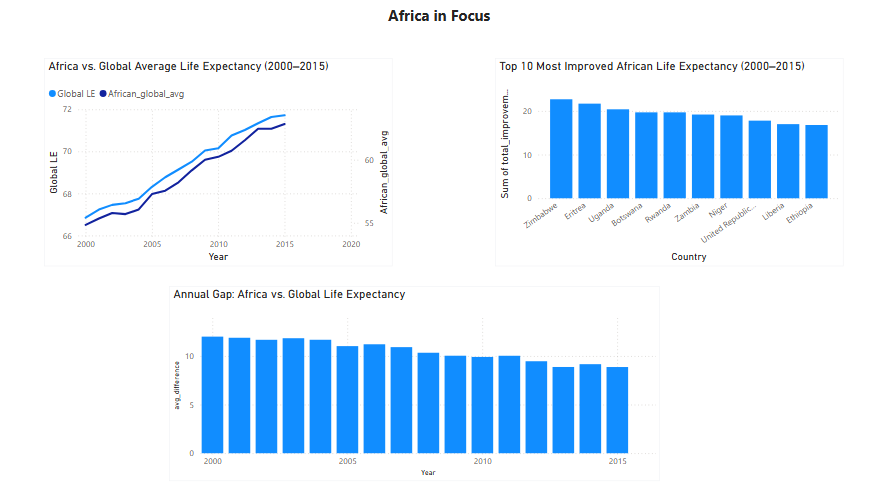

The page's visual inventory and layout, read from the dashboard file:
{"tool":"powerbi","page":{"name":"Page 4","canvas":[1280,720],"ordinal":3},"visuals":[{"type":"lineChart","title":"Africa vs. Global Average Life Expectancy (2000–2015)","fields":{"Y":["_Measure Bank.Global_lifeExpectancy_Avg"],"Category":["v_Dim_Date.CalendarYear"],"Y2":["_Measure Bank.African_global_avg"]},"box":[70.6,92.2,502,300],"z":0},{"type":"clusteredColumnChart","title":"Annual Gap: Africa vs. Global Life Expectancy","fields":{"Y":["_Measure Bank.avg_difference"],"Category":["v_Dim_Date.CalendarYear"]},"box":[250.6,420.5,707,280.8],"z":1000},{"type":"clusteredColumnChart","title":"Top 10 Most Improved African Life Expectancy (2000–2015)","fields":{"Category":["v_Dim_improved_Countries.Country"],"Y":["Sum(v_Dim_improved_Countries.total_improvement_years)"]},"box":[720,92.2,502,300],"z":2000},{"type":"textbox","box":[548.6,11.5,181.4,38.9],"z":3000}]}

Visuals, with their boxes in screenshot pixels (x1, y1, x2, y2), scaled from the page's 1280x720 canvas onto the 879x491 screenshot:
"Africa vs. Global Average Life Expectancy (2000–2015)" lineChart: l=48, t=63, r=393, b=267
"Annual Gap: Africa vs. Global Life Expectancy" clusteredColumnChart: l=172, t=287, r=658, b=478
"Top 10 Most Improved African Life Expectancy (2000–2015)" clusteredColumnChart: l=494, t=63, r=839, b=267
textbox: l=377, t=8, r=501, b=34
